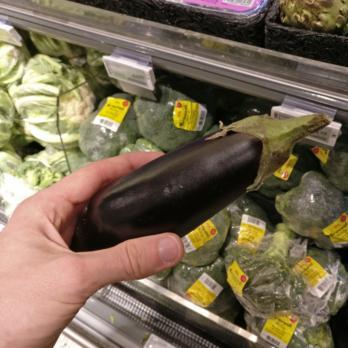Brinjal: (82, 99, 329, 243)
